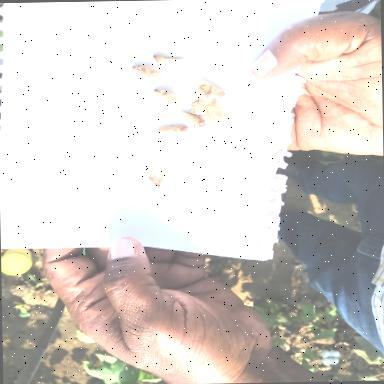abw: (200, 98, 236, 130), (142, 160, 170, 192), (174, 107, 208, 133), (188, 86, 216, 116), (151, 51, 190, 70), (152, 122, 192, 140), (130, 64, 166, 84), (152, 88, 184, 110), (195, 78, 227, 100)
